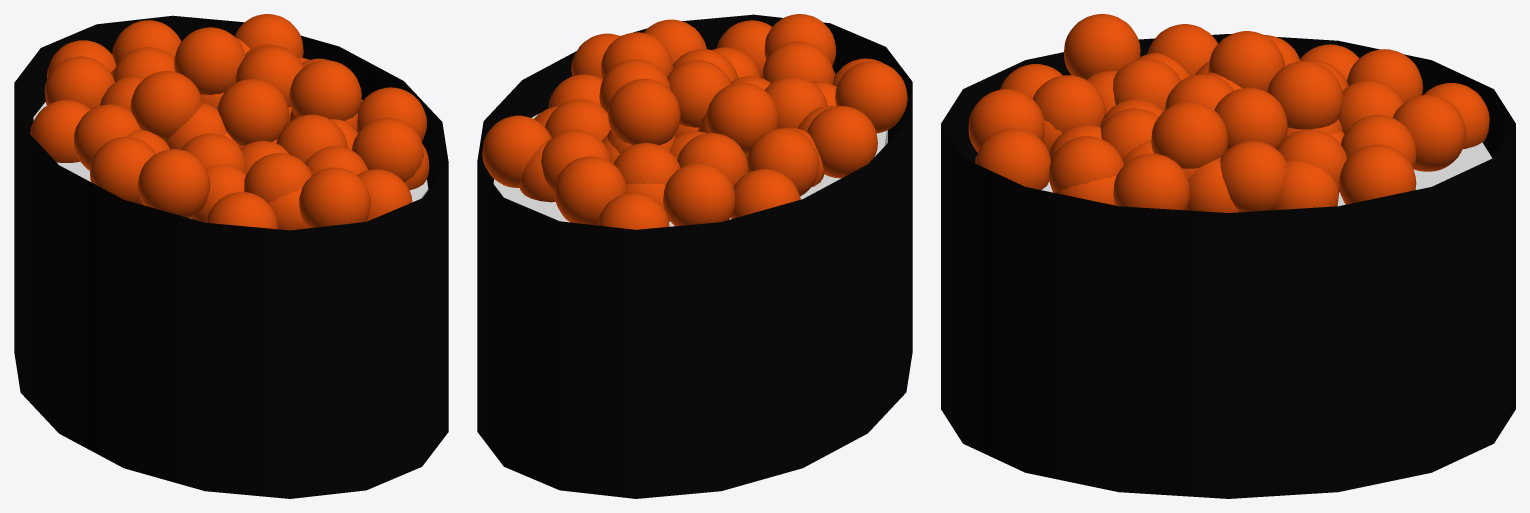
Rendered from Ikura-Sushi.glb.
The picture shows the model from 3 angles, left to right: view 1: azimuth 30°, elevation 25°; view 2: azimuth 150°, elevation 25°; view 3: azimuth 270°, elevation 25°; orthographic projection. The views are drawn at different scales.
Visible parts, largest first — view 1: Cylinder.004, ikura.017, ikura.042, ikura.013, ikura.044, ikura.043, ikura.035, ikura.006, ikura.010, ikura.020, ikura.027, ikura.002 (+19 smaller); view 2: Cylinder.004, ikura.043, ikura.020, ikura.010, ikura.003, ikura.017, ikura.035, ikura.007, ikura.002, ikura.042, ikura.027, ikura.001 (+18 smaller); view 3: Cylinder.004, ikura.044, ikura.043, ikura.003, ikura.017, ikura, ikura.014, ikura.007, ikura.045, ikura.024, ikura.035, ikura.001 (+19 smaller).
Part boxes in pixels (x1,y1,x2,y2): Cylinder.004: [14, 15, 448, 498]; ikura.017: [137, 149, 210, 217]; ikura.042: [217, 78, 288, 145]; ikura.013: [299, 167, 370, 228]; ikura.044: [289, 60, 361, 120]; ikura.043: [174, 27, 245, 94]; ikura.035: [130, 71, 202, 140]; ikura.006: [352, 117, 423, 182]; ikura.010: [90, 136, 156, 202]; ikura.020: [44, 56, 115, 109]; ikura.027: [30, 100, 90, 162]; ikura.002: [73, 104, 140, 170]; Cylinder.004: [477, 14, 912, 498]; ikura.043: [608, 79, 680, 145]; ikura.020: [663, 163, 735, 226]; ikura.010: [807, 106, 877, 178]; ikura.003: [554, 156, 626, 225]; ikura.017: [835, 61, 907, 133]; ikura.035: [706, 82, 778, 155]; ikura.007: [482, 115, 551, 187]; ikura.002: [747, 128, 819, 196]; ikura.042: [667, 60, 731, 127]; ikura.027: [730, 169, 800, 219]; ikura.001: [762, 41, 834, 84]; Cylinder.004: [941, 34, 1515, 498]; ikura.044: [1151, 101, 1227, 168]; ikura.043: [1267, 61, 1342, 129]; ikura.003: [1392, 95, 1466, 171]; ikura.017: [1064, 14, 1140, 79]; ikura: [1220, 141, 1286, 212]; ikura.014: [1113, 153, 1189, 210]; ikura.007: [1339, 144, 1416, 204]; ikura.045: [1214, 87, 1287, 150]; ikura.024: [975, 128, 1050, 189]; ikura.035: [1208, 31, 1284, 91]; ikura.001: [1033, 75, 1106, 132].
Size of the model in its own units: 0.5213 by 0.4784 by 0.7069.
